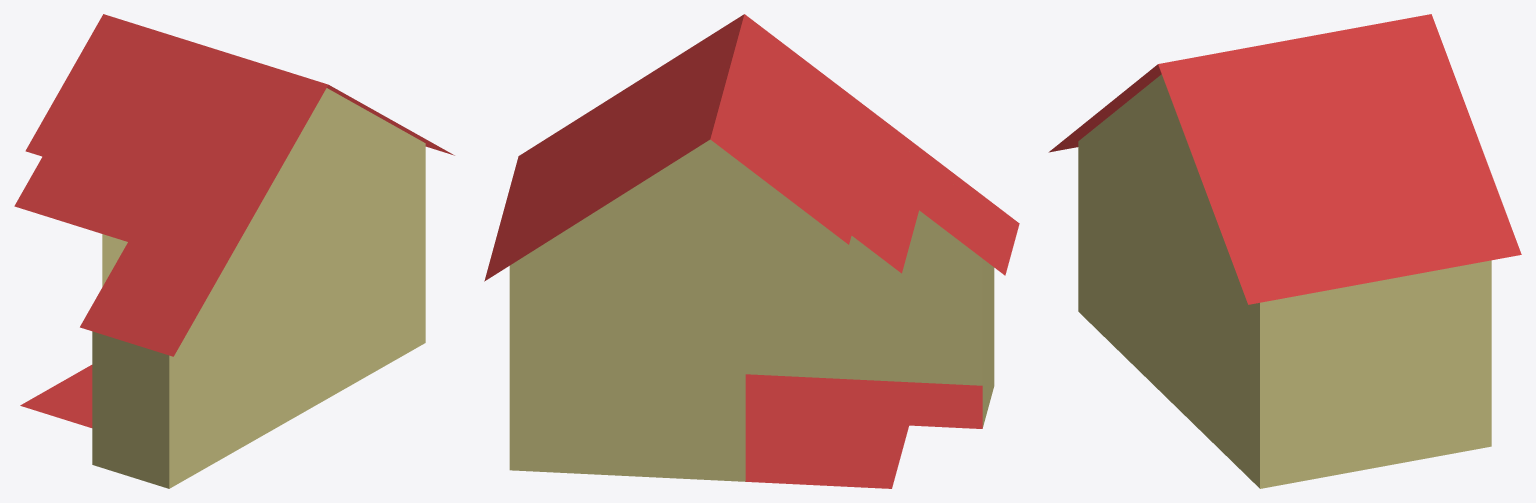
3 views of the same model, side by side, from view 1: azimuth 30°, elevation 25°; view 2: azimuth 150°, elevation 25°; view 3: azimuth 270°, elevation 25° (orthographic). The views are drawn at different scales.
Size of the model in its own units: 16.77 by 15.53 by 12.65.
